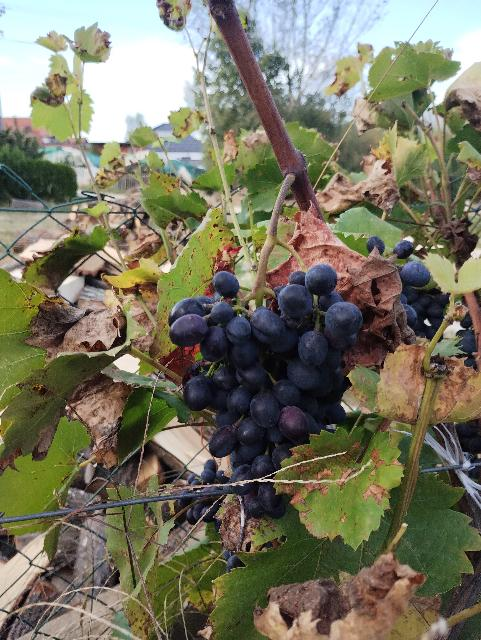grapes: (169, 265, 364, 519)
